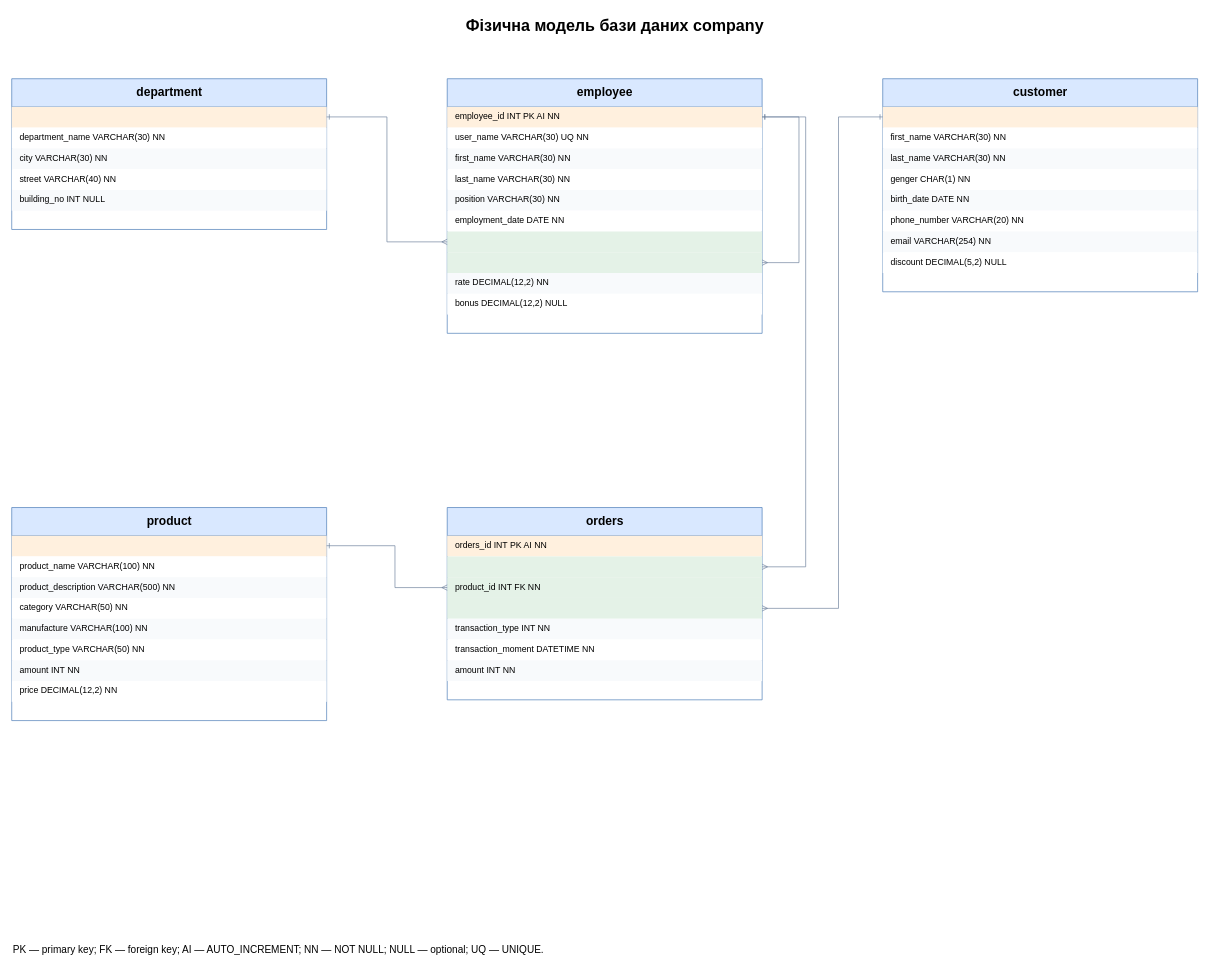
The diagram is 1229 pixels wide and 974 high, and some of its shapes have lost their labels. Each missing label, with the box of its shape:
customer_id INT FK NN: (447, 598, 762, 618)
customer_id INT PK AI NN: (882, 107, 1197, 127)
department_id INT FK NULL: (447, 231, 762, 252)
department_id INT PK AI NN: (11, 107, 326, 127)
employee_id INT FK NN: (447, 556, 762, 577)
manager_id INT FK NULL: (447, 252, 762, 273)
product_id INT PK AI NN: (11, 535, 326, 556)
